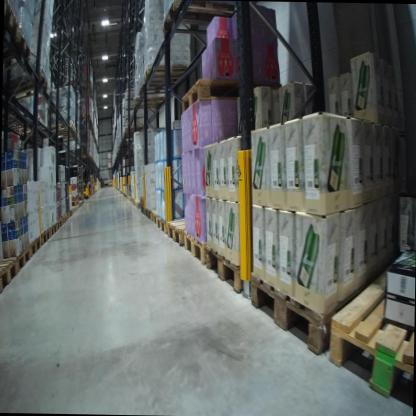pallet: (249, 221, 405, 356), (326, 237, 414, 400), (172, 74, 281, 121), (158, 1, 244, 37), (203, 239, 242, 293), (8, 70, 49, 107), (3, 31, 31, 76), (164, 205, 189, 251), (181, 226, 206, 269), (144, 63, 185, 88), (0, 256, 20, 299), (7, 119, 43, 142), (137, 78, 177, 97), (4, 0, 21, 42), (130, 93, 171, 108), (15, 244, 32, 272), (49, 119, 74, 133), (27, 236, 42, 259), (151, 207, 166, 226), (156, 218, 170, 235), (38, 227, 50, 245), (49, 218, 61, 234), (57, 212, 67, 227), (138, 193, 149, 206), (48, 222, 58, 236), (145, 207, 153, 224), (138, 206, 147, 214), (64, 211, 71, 221), (68, 206, 73, 219), (72, 200, 79, 207), (70, 208, 75, 214), (71, 207, 77, 212)
